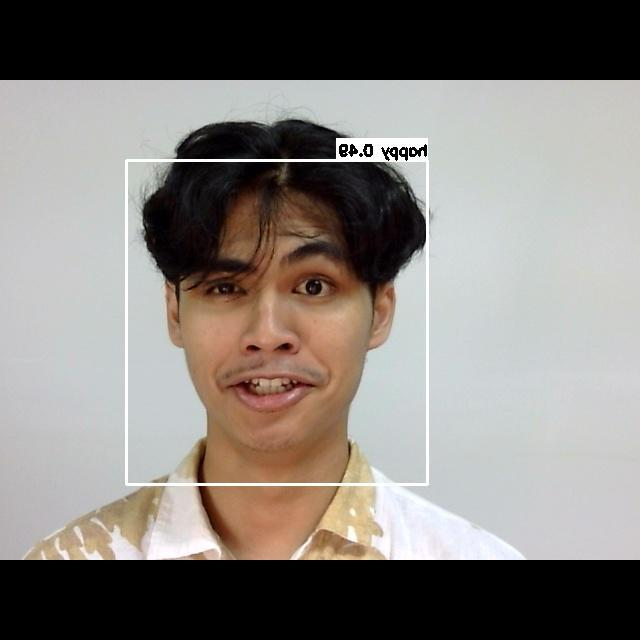Fear: (167, 226, 371, 438)
